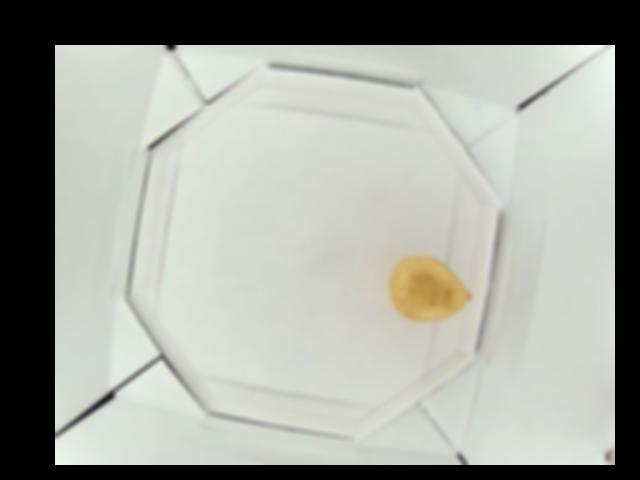Potato: (388, 255, 473, 324)
